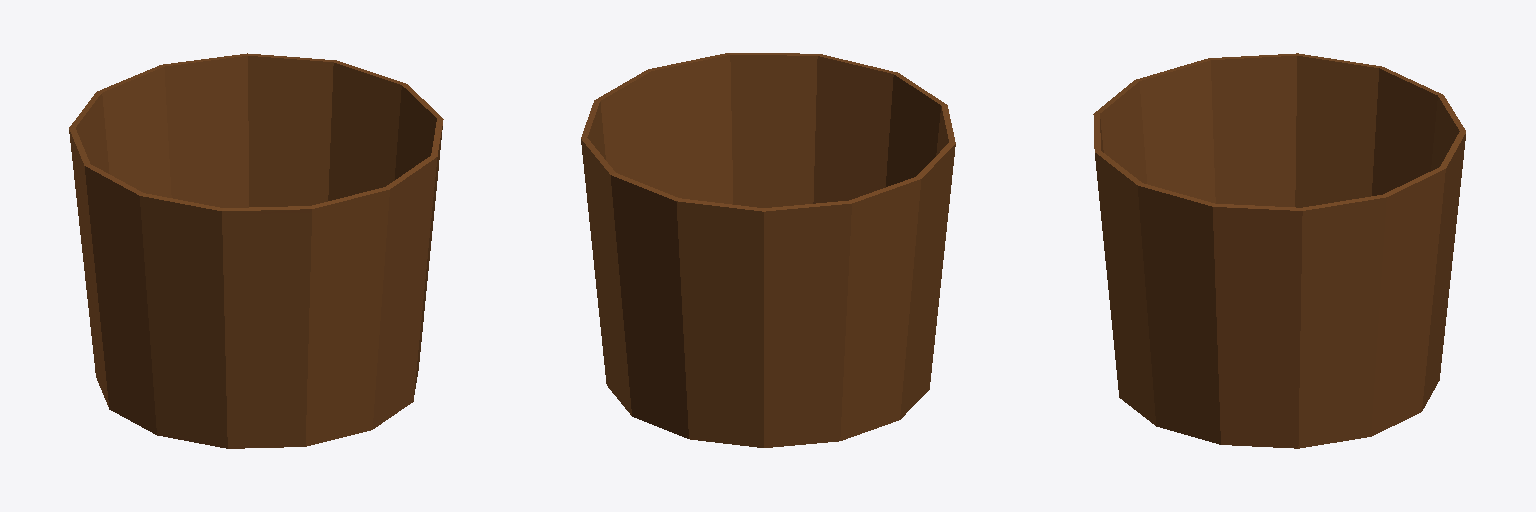
File: coffeecupholde_01.obj
3 views of the same model, side by side, from view 1: azimuth 30°, elevation 25°; view 2: azimuth 150°, elevation 25°; view 3: azimuth 270°, elevation 25° (orthographic).
Parts seen in each view (by area): view 1: coffeecupholder_01_Mesh.200; view 2: coffeecupholder_01_Mesh.200; view 3: coffeecupholder_01_Mesh.200.
Part boxes in pixels (x1,y1,x2,y2): coffeecupholder_01_Mesh.200: (69,53,443,448); coffeecupholder_01_Mesh.200: (581,53,955,447); coffeecupholder_01_Mesh.200: (1093,53,1465,448).
Bounding box in the file's own units: 0.0787 × 0.0578 × 0.0782.